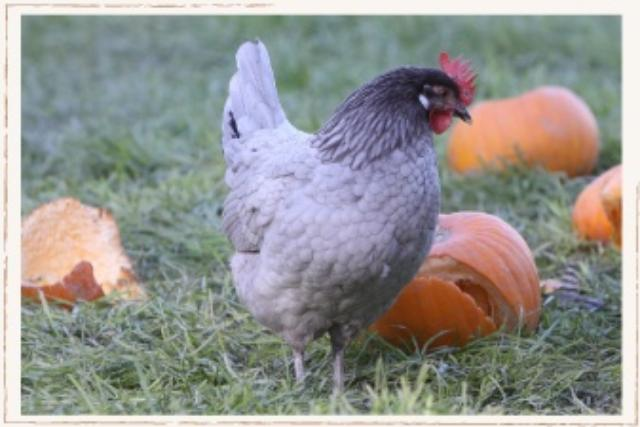Chicken: (221, 38, 478, 384)
